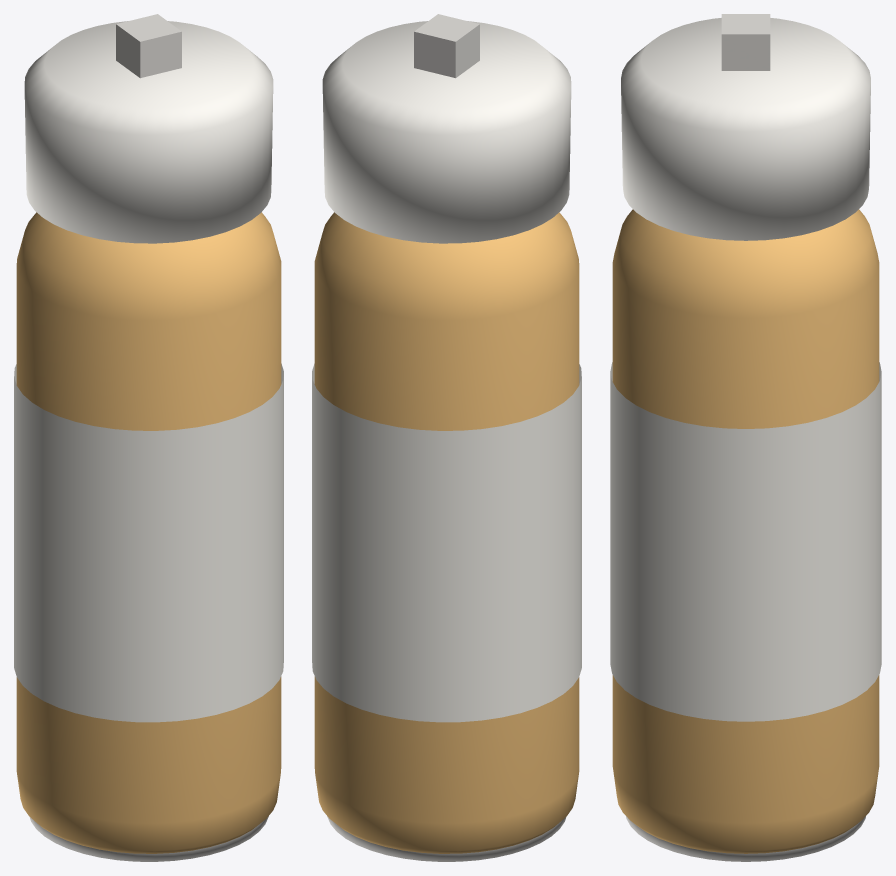
Rendered from scent-can.glb.
3 renders of one model, left to right at view 1: azimuth 30°, elevation 25°; view 2: azimuth 150°, elevation 25°; view 3: azimuth 270°, elevation 25°, orthographic.
Visible parts, largest first — view 1: scent-can; view 2: scent-can; view 3: scent-can.
Part boxes in pixels (box(x1,y1,x2,y2)): scent-can: box(14, 14, 283, 861); scent-can: box(312, 14, 581, 861); scent-can: box(610, 14, 881, 861).
Bounding box in the file's own units: 0.0672 × 0.215 × 0.0672.
